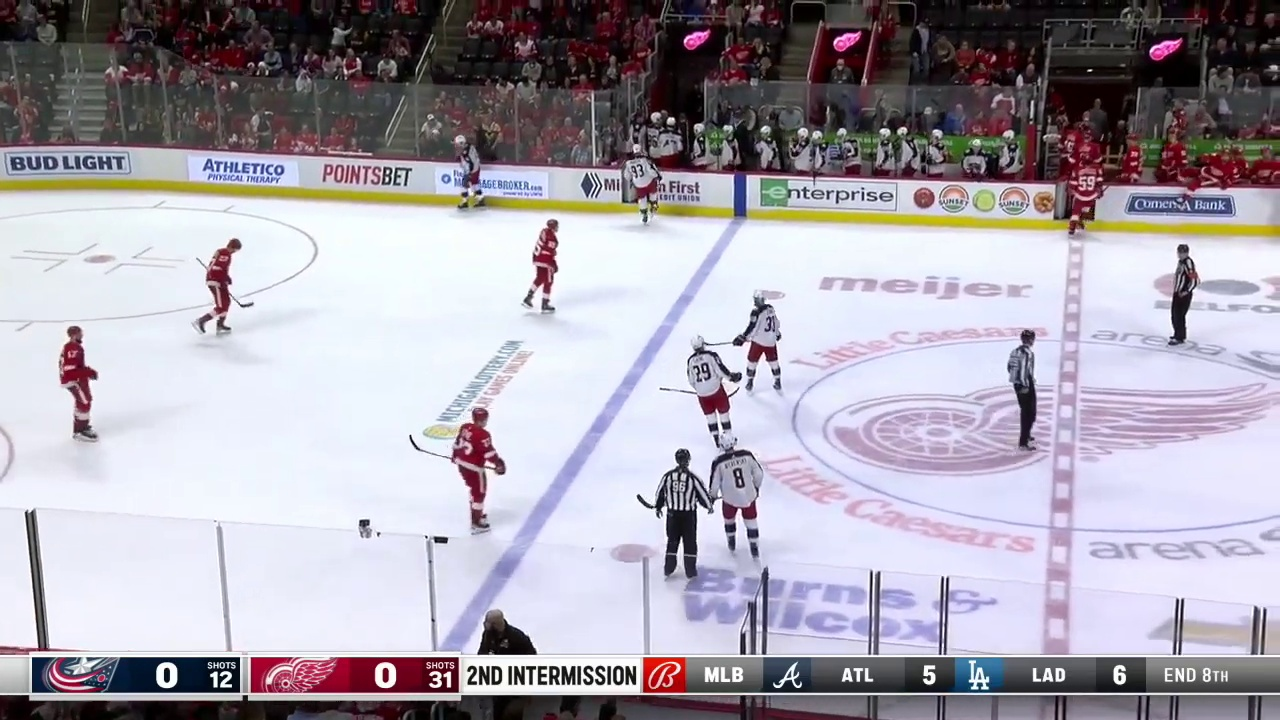hockeyplayer: (707, 431, 765, 562), (451, 408, 506, 534), (686, 334, 742, 449), (733, 289, 783, 395), (191, 239, 242, 336), (57, 326, 99, 443), (521, 219, 559, 314), (623, 144, 663, 225), (1067, 153, 1104, 237), (455, 135, 486, 211)
referee: (654, 448, 714, 582), (1007, 329, 1037, 452), (1168, 244, 1200, 347)
